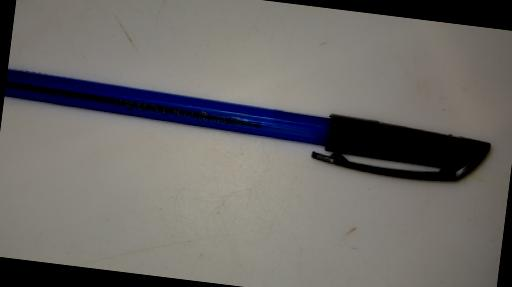pen: (0, 68, 498, 190)
